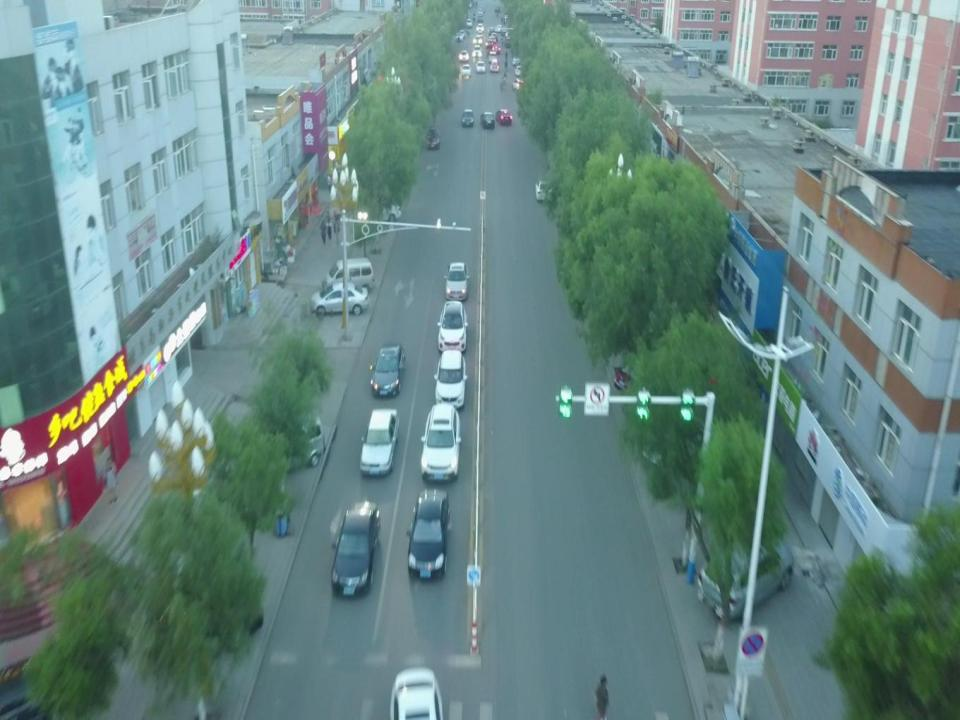car: (695, 527, 794, 623), (330, 498, 380, 598), (406, 488, 450, 582), (419, 403, 461, 483), (612, 353, 682, 399), (358, 406, 400, 478), (388, 667, 444, 720), (310, 281, 369, 317), (369, 341, 406, 398), (434, 348, 468, 410), (436, 299, 468, 354), (442, 260, 469, 302), (534, 179, 554, 200), (426, 128, 440, 151), (479, 110, 495, 130), (496, 108, 513, 126), (462, 108, 474, 127), (512, 78, 524, 91), (461, 64, 471, 77), (475, 61, 486, 72), (459, 50, 469, 62), (490, 58, 498, 72), (472, 44, 481, 56), (514, 65, 524, 75), (472, 35, 482, 45), (488, 50, 496, 61), (512, 55, 520, 65), (492, 44, 500, 54), (485, 39, 493, 49), (487, 34, 496, 41)
van: (259, 414, 326, 474), (322, 256, 374, 294)
